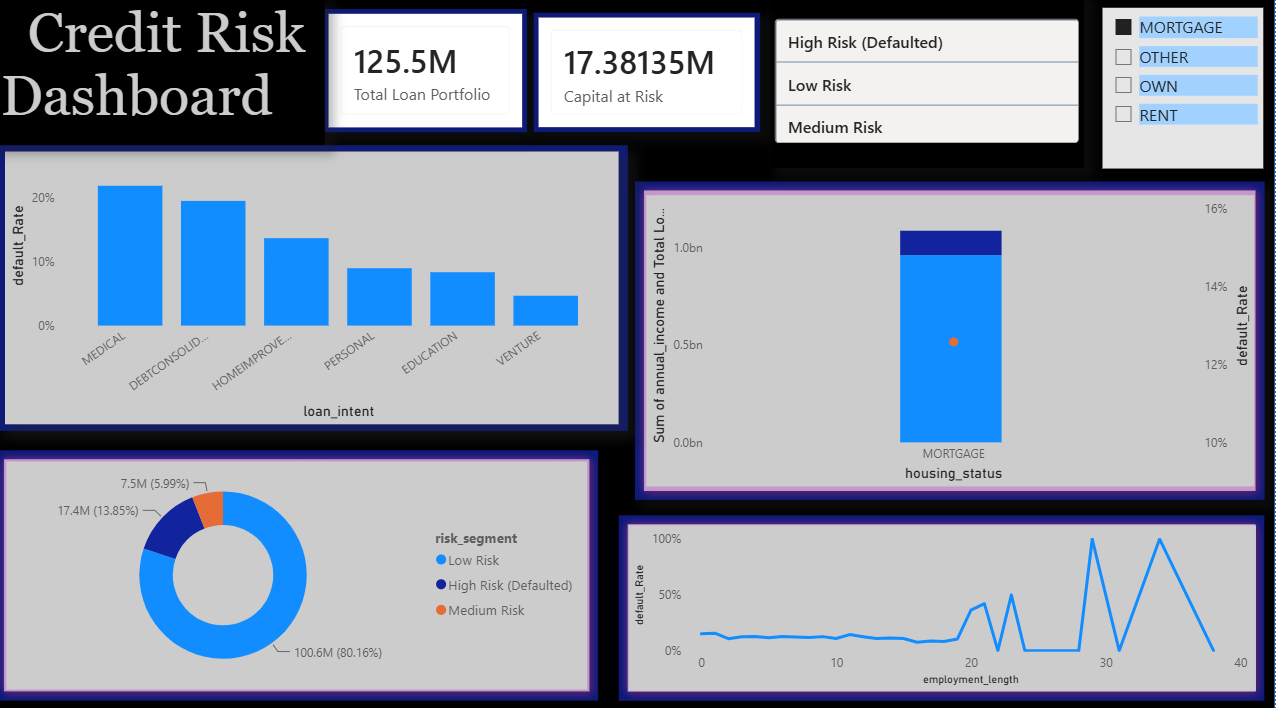

Layout of this report page (visuals, bound fields, positions):
{"tool":"powerbi","page":{"name":"Page 1","canvas":[1280,720],"ordinal":0},"visuals":[{"type":"shape","box":[0,0,1280,717.8],"z":0},{"type":"shape","box":[623.2,521.2,645.6,185.3],"z":1000},{"type":"shape","box":[639.4,187.8,629.4,318.5],"z":2000},{"type":"shape","box":[0,456.5,603.3,250],"z":3000},{"type":"shape","box":[0,150.9,632.6,285.4],"z":4000},{"type":"columnChart","fields":{"Category":["credit_risk credit_risk_clean.loan_intent"],"Y":["credit_risk credit_risk_clean.default_Rate"]},"box":[9.6,157.8,613.4,273.1],"z":5000},{"type":"actionButton","box":[0,0,100,40],"z":6000},{"type":"cardVisual","fields":{"Data":["credit_risk credit_risk_clean.Total_Portfolio"]},"box":[329.3,15.1,203.1,123.5],"z":7000},{"type":"cardVisual","fields":{"Data":["credit_risk credit_risk_clean.Capital_At_Risk"]},"box":[539.3,19.2,226.4,119.4],"z":8000},{"type":"donutChart","fields":{"Category":["credit_risk credit_risk_clean.risk_segment"],"Y":["credit_risk credit_risk_clean.Total_Loan_Portfolio"]},"box":[11.2,467.7,580.9,227.6],"z":9000},{"type":"lineStackedColumnComboChart","fields":{"Category":["credit_risk credit_risk_clean.housing_status"],"Y":["Sum(credit_risk credit_risk_clean.annual_income)","credit_risk credit_risk_clean.Total_Portfolio"],"Y2":["credit_risk credit_risk_clean.default_Rate"]},"box":[651.8,201.5,608.3,291.1],"z":10000},{"type":"lineChart","fields":{"Category":["credit_risk credit_risk_clean.employment_length"],"Y":["credit_risk credit_risk_clean.default_Rate"]},"box":[633.2,531.2,627,165.4],"z":11000},{"type":"textbox","box":[0,1.4,329.3,149.6],"z":12000},{"type":"cardVisual","fields":{"Rows":["credit_risk credit_risk_clean.risk_segment"]},"box":[775.3,0,314.2,174.3],"z":13000},{"type":"slicer","fields":{"Values":["credit_risk credit_risk_clean.housing_status"]},"box":[1107.4,13.7,160.5,160.5],"z":14000}]}

Visuals, with their boxes in screenshot pixels (x1, y1, x2, y2), scaled from the page's 1280x720 canvas onto the 1276x708 screenshot:
shape: [0, 0, 1275, 706]
shape: [621, 513, 1265, 695]
shape: [637, 185, 1265, 498]
shape: [0, 449, 601, 695]
shape: [0, 148, 631, 429]
columnChart - credit_risk credit_risk_clean.loan_intent x credit_risk credit_risk_clean.default_Rate: [10, 155, 621, 424]
actionButton: [0, 0, 100, 39]
cardVisual - credit_risk credit_risk_clean.Total_Portfolio: [328, 15, 531, 136]
cardVisual - credit_risk credit_risk_clean.Capital_At_Risk: [538, 19, 763, 136]
donutChart - credit_risk credit_risk_clean.risk_segment x credit_risk credit_risk_clean.Total_Loan_Portfolio: [11, 460, 590, 684]
lineStackedColumnComboChart - credit_risk credit_risk_clean.housing_status x Sum(credit_risk credit_risk_clean.annual_income): [650, 198, 1256, 484]
lineChart - credit_risk credit_risk_clean.employment_length x credit_risk credit_risk_clean.default_Rate: [631, 522, 1256, 685]
textbox: [0, 1, 328, 148]
cardVisual - credit_risk credit_risk_clean.risk_segment: [773, 0, 1086, 171]
slicer - credit_risk credit_risk_clean.housing_status: [1104, 13, 1264, 171]
